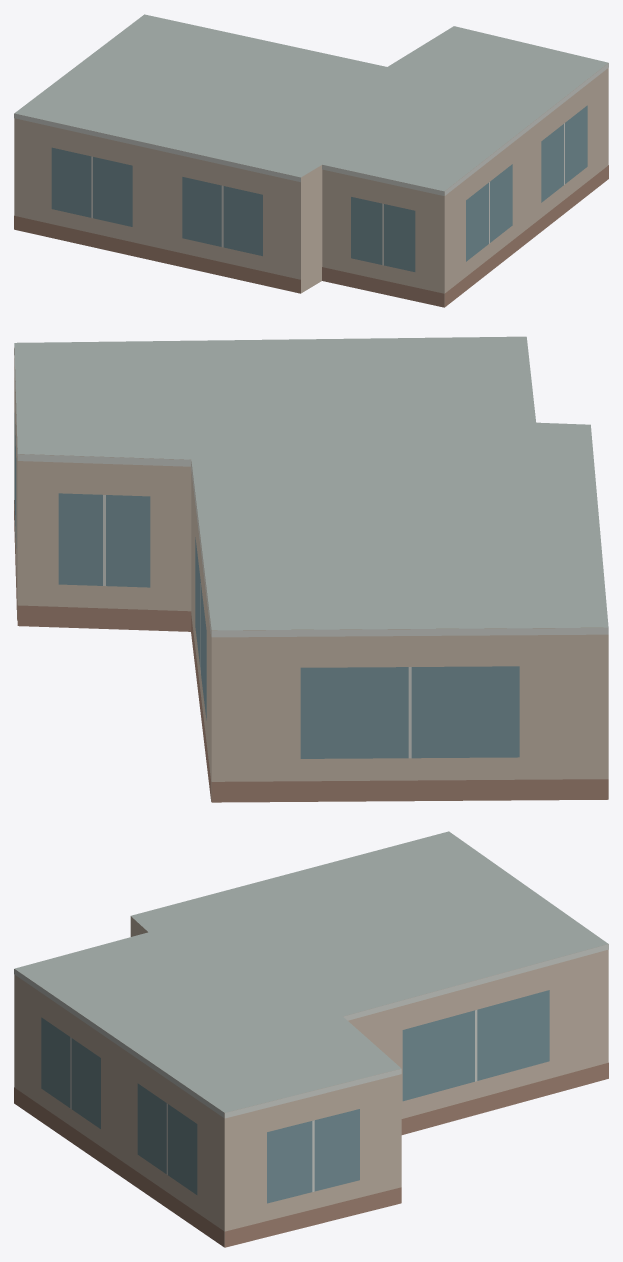
The model's file is survey-upis-32598621.glb.
The picture shows the model from 3 angles, top to bottom: view 1: azimuth 30°, elevation 25°; view 2: azimuth 150°, elevation 25°; view 3: azimuth 270°, elevation 25°; orthographic projection. The views are drawn at different scales.
Parts seen in each view (by area): view 1: survey-upis-32598621.tmp; view 2: survey-upis-32598621.tmp; view 3: survey-upis-32598621.tmp.
Part boxes in pixels (box(x1,y1,x2,y2)): survey-upis-32598621.tmp: box(14, 14, 608, 307); survey-upis-32598621.tmp: box(14, 336, 608, 802); survey-upis-32598621.tmp: box(14, 831, 608, 1247).
Bounding box in the file's own units: 13.69 × 3.05 × 12.22.
